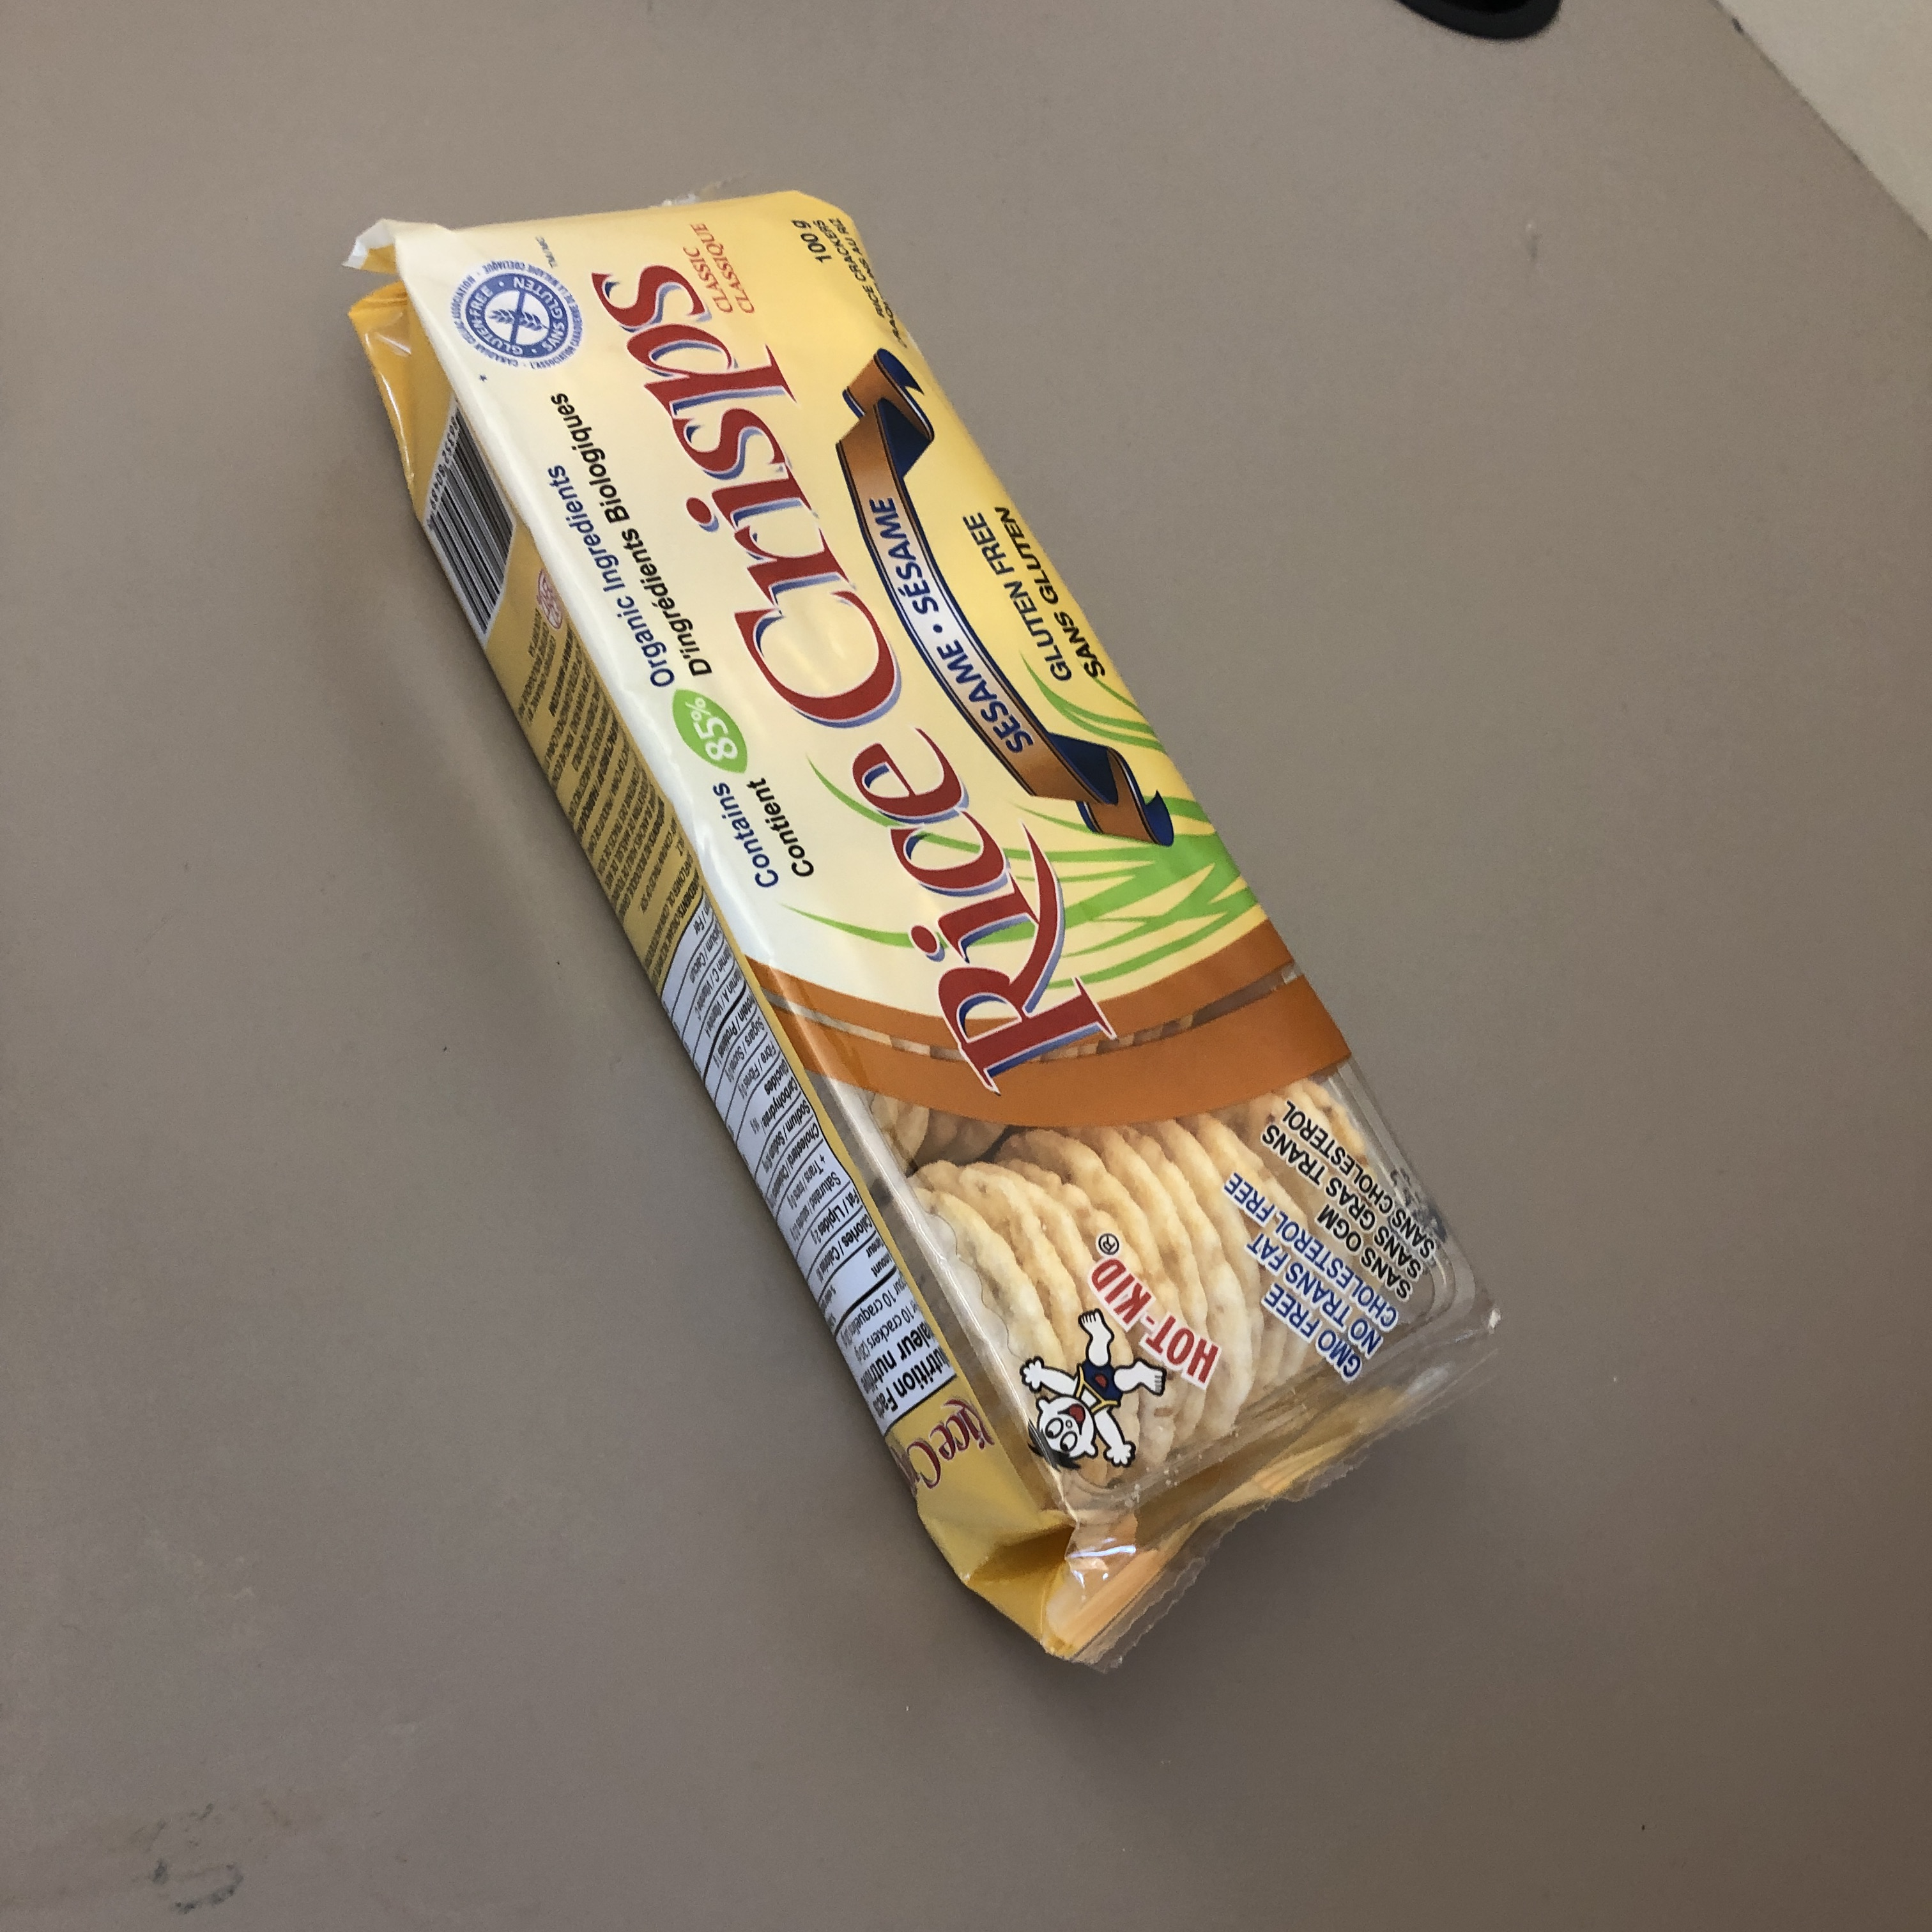hot_kid_rice_crisps_sesame: (214, 767, 1606, 1376)
